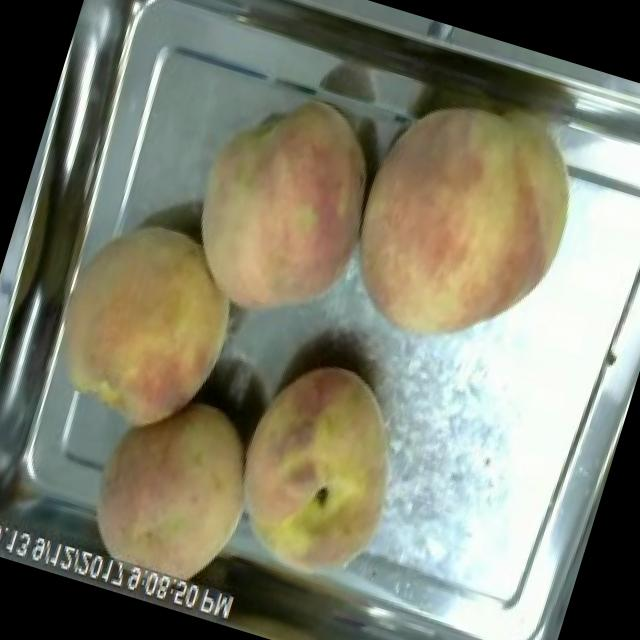Fruit: (319, 70, 606, 380), (161, 70, 403, 346), (20, 194, 266, 461), (204, 338, 431, 599), (62, 369, 286, 618)
